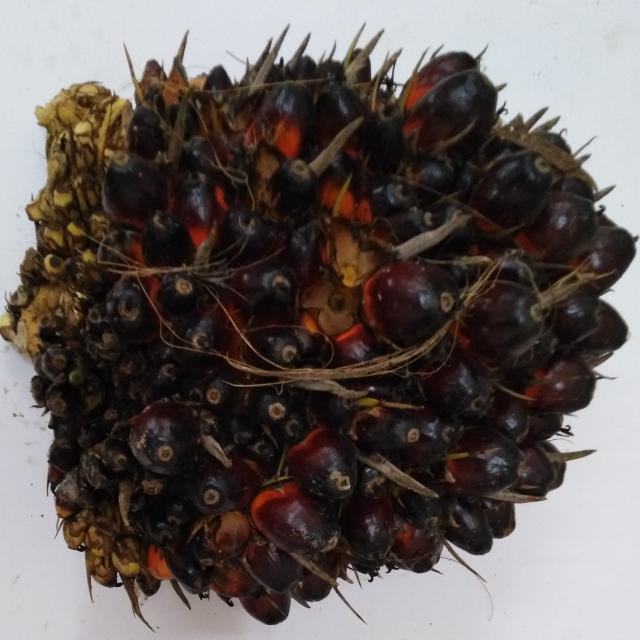FFB: (46, 61, 634, 604)
